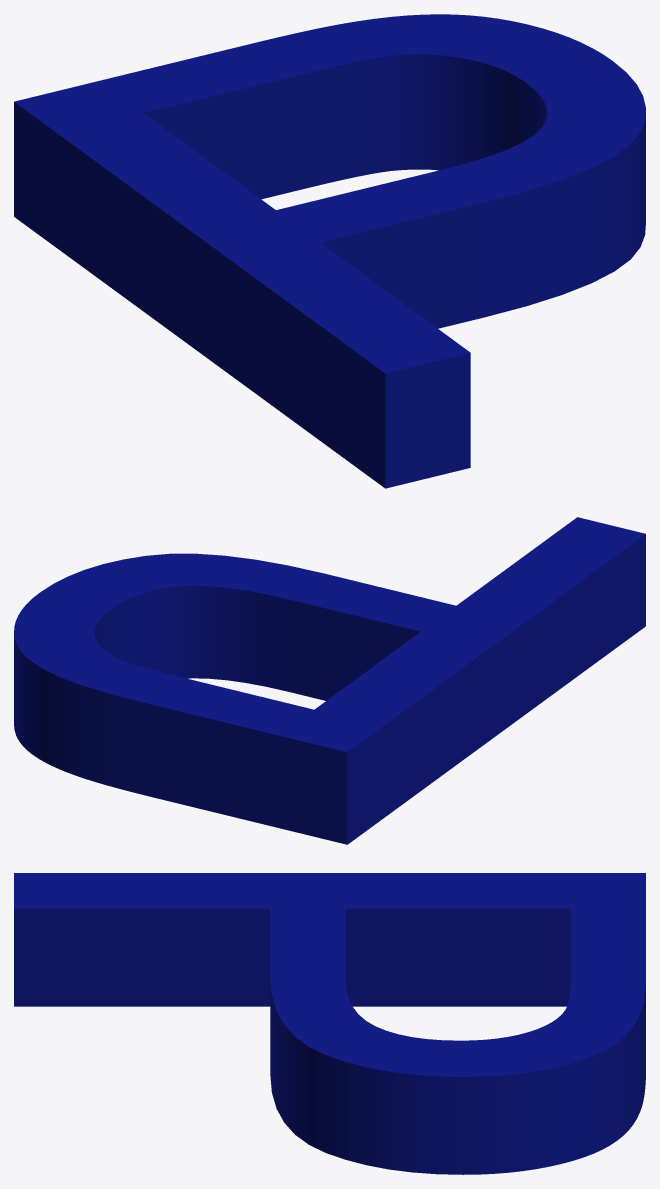
The picture shows the model from 3 angles, top to bottom: view 1: azimuth 30°, elevation 25°; view 2: azimuth 150°, elevation 25°; view 3: azimuth 270°, elevation 25°; orthographic projection. The views are drawn at different scales.
Parts seen in each view (by area): view 1: TextPlus016; view 2: TextPlus016; view 3: TextPlus016.
Boxes of the visible parts, x1,y1,x2,y2 form: TextPlus016: [14, 14, 645, 488]; TextPlus016: [14, 517, 645, 844]; TextPlus016: [14, 873, 645, 1174].
Bounding box in the file's own units: 19.56 × 4.38 × 25.64.
